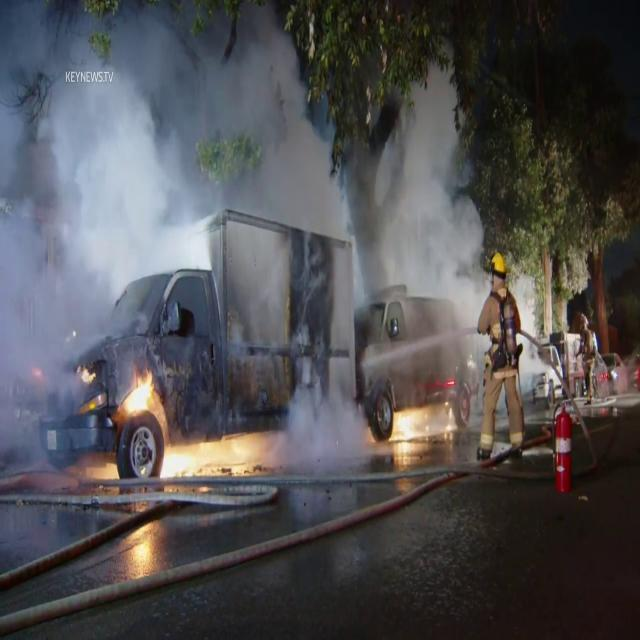Fire: (117, 367, 163, 423)
Smoke: (0, 6, 365, 412), (354, 60, 496, 383)
